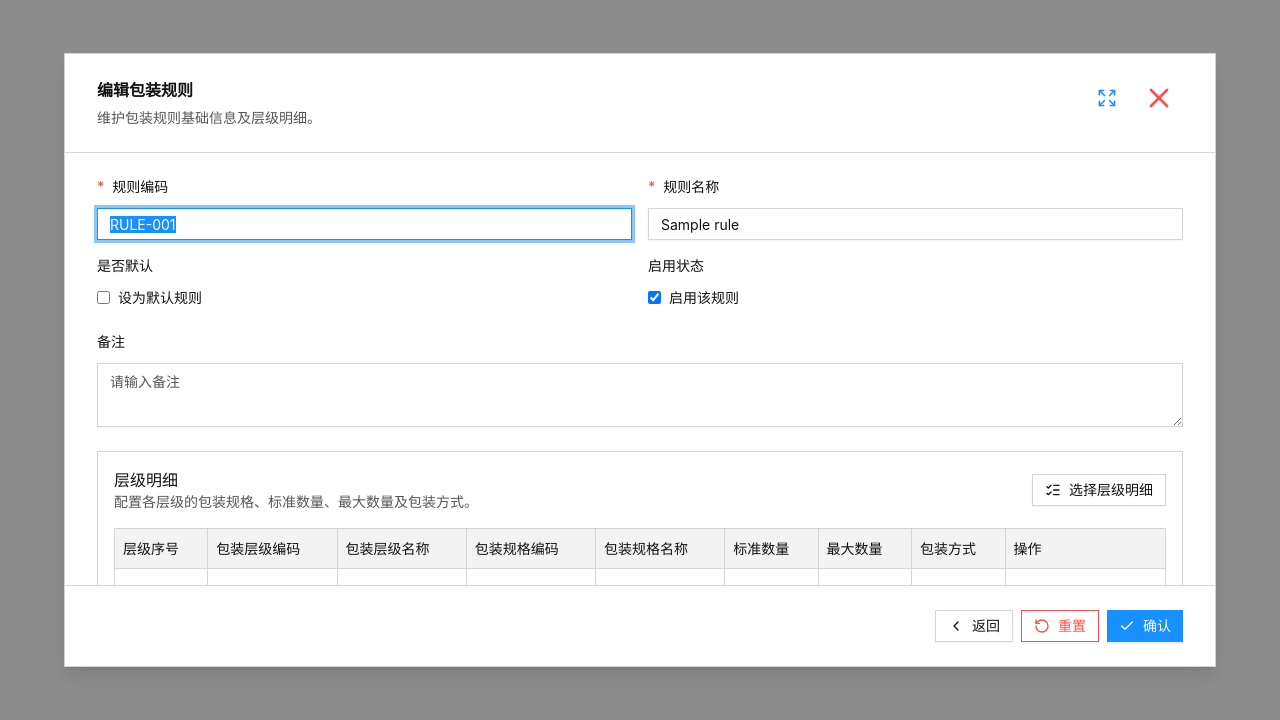
PackagingRuleFormDialog › shows the replace confirmation when level details already exist
Click the button with test id "packaging-rule-form-select-details" at (1099, 490), box [1032,474,1166,506]
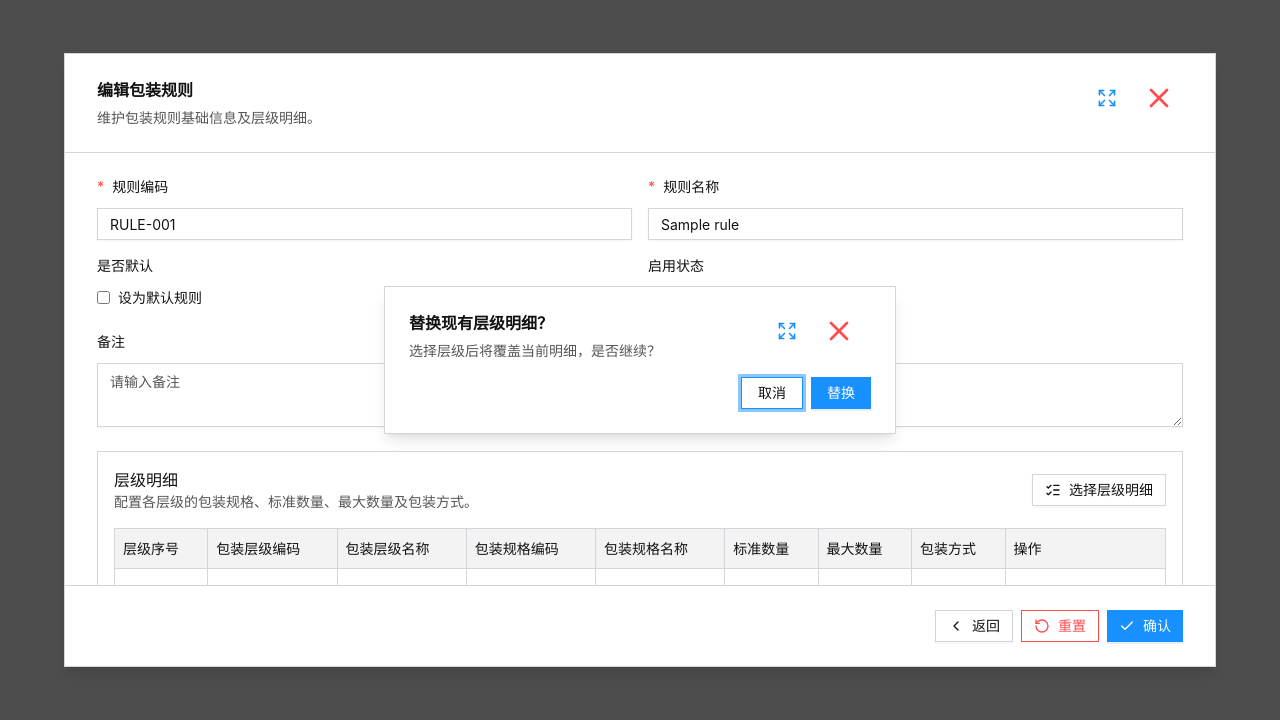
Now the dialog with test id "packaging-rule-replace-details-dialog" is shown, box [384,286,896,434]
